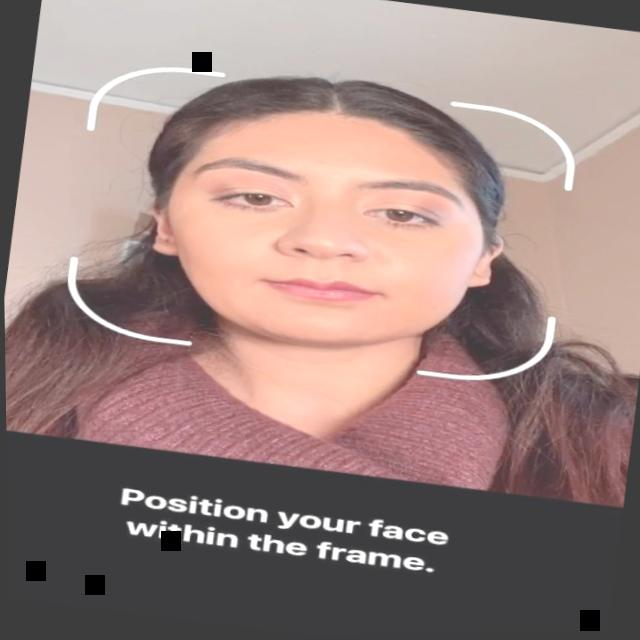NO-Mask: (120, 82, 516, 392)
